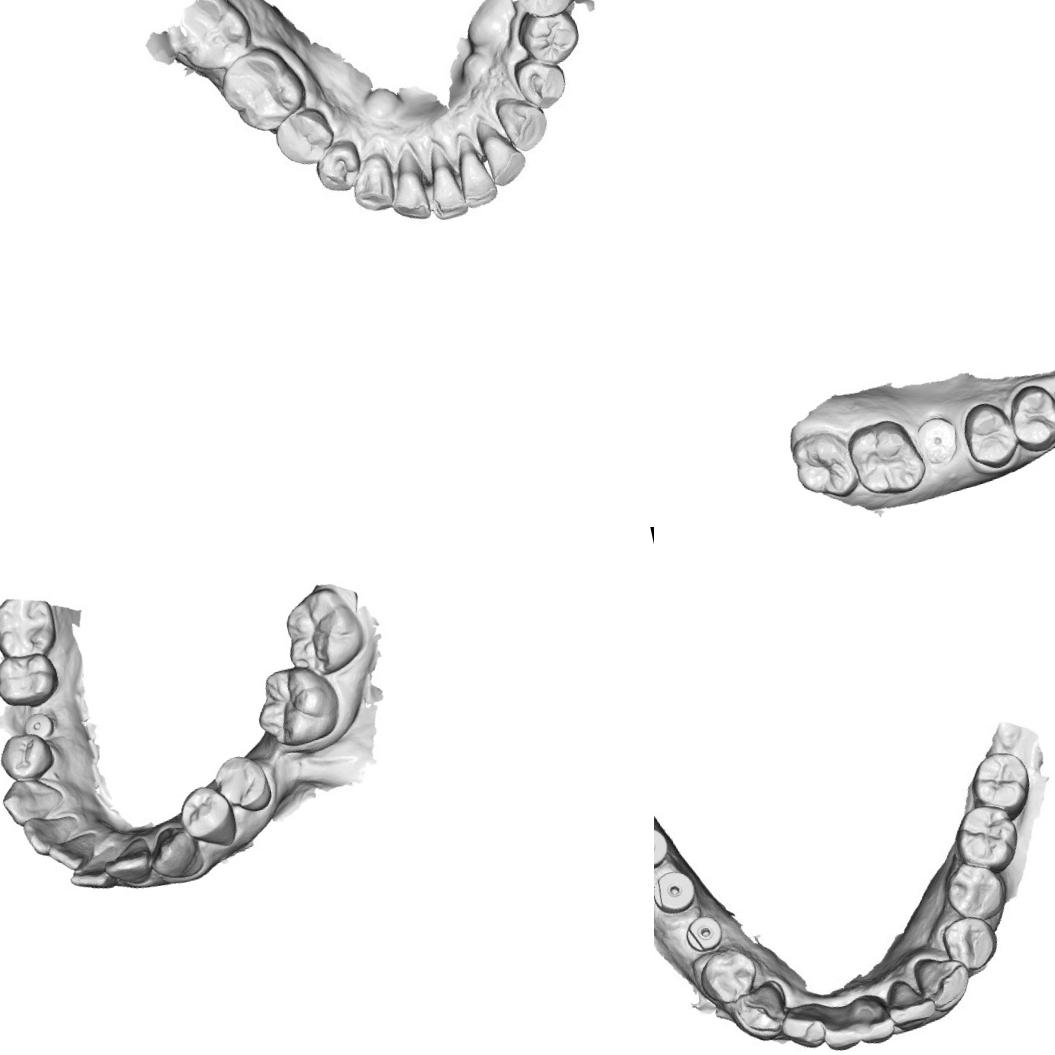canine: (142, 820, 208, 884), (492, 88, 552, 156), (914, 950, 974, 1018), (0, 770, 67, 828), (730, 975, 791, 1038), (345, 154, 396, 218)
implant: (913, 412, 963, 470), (680, 908, 730, 960), (654, 867, 700, 918), (21, 709, 57, 743), (654, 822, 670, 875)
incisor: (418, 153, 471, 226), (476, 115, 528, 189), (383, 156, 435, 226), (451, 141, 501, 209), (20, 808, 84, 859), (98, 834, 156, 890), (64, 844, 124, 897), (43, 828, 104, 876), (887, 973, 934, 1026), (780, 997, 828, 1048), (820, 996, 858, 1048), (856, 990, 892, 1041)
molar: (215, 41, 311, 140), (276, 582, 370, 682), (248, 659, 346, 754), (842, 412, 930, 504), (169, 0, 259, 74), (786, 424, 863, 507), (948, 799, 1021, 872), (0, 589, 61, 665), (968, 747, 1034, 815), (0, 645, 64, 714), (502, 0, 587, 21)
premolar: (172, 779, 240, 856), (957, 397, 1023, 474), (693, 945, 767, 1009), (209, 749, 276, 819), (515, 9, 584, 71), (945, 856, 1009, 922), (272, 106, 336, 170), (1003, 379, 1055, 456), (511, 53, 571, 112), (942, 914, 1000, 974), (0, 727, 58, 784), (307, 142, 363, 196)
